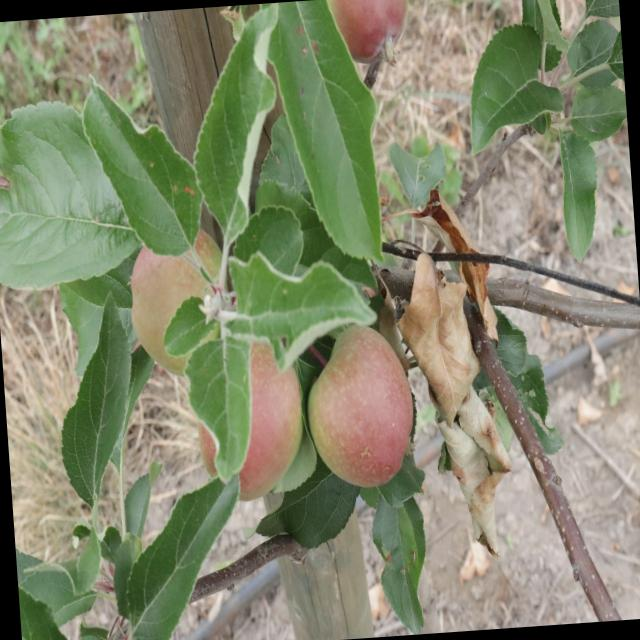-FireBlight-: (395, 198, 524, 590)
